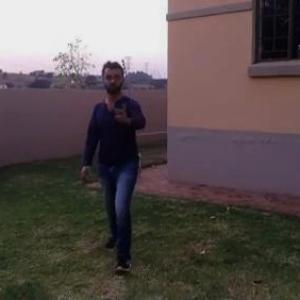takeoff-hand: (108, 92, 138, 128)
